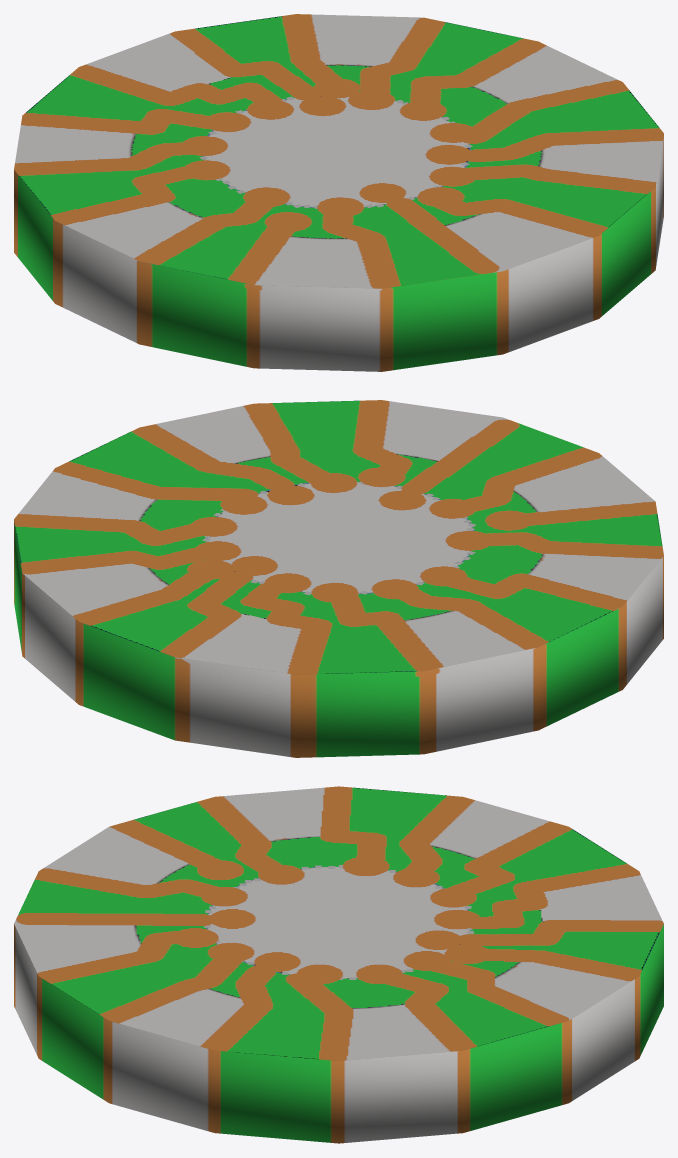
Rendered from chip.fbx.
3 renders of one model, top to bottom at view 1: azimuth 30°, elevation 25°; view 2: azimuth 150°, elevation 25°; view 3: azimuth 270°, elevation 25°, orthographic.
Visible parts, largest first — view 1: Cylinder; view 2: Cylinder; view 3: Cylinder.
Boxes of the visible parts, <box> form: Cylinder: <box>14,14,663,371</box>; Cylinder: <box>14,400,663,757</box>; Cylinder: <box>14,786,663,1143</box>.
Size of the model in its own units: 200 by 28 by 200.
